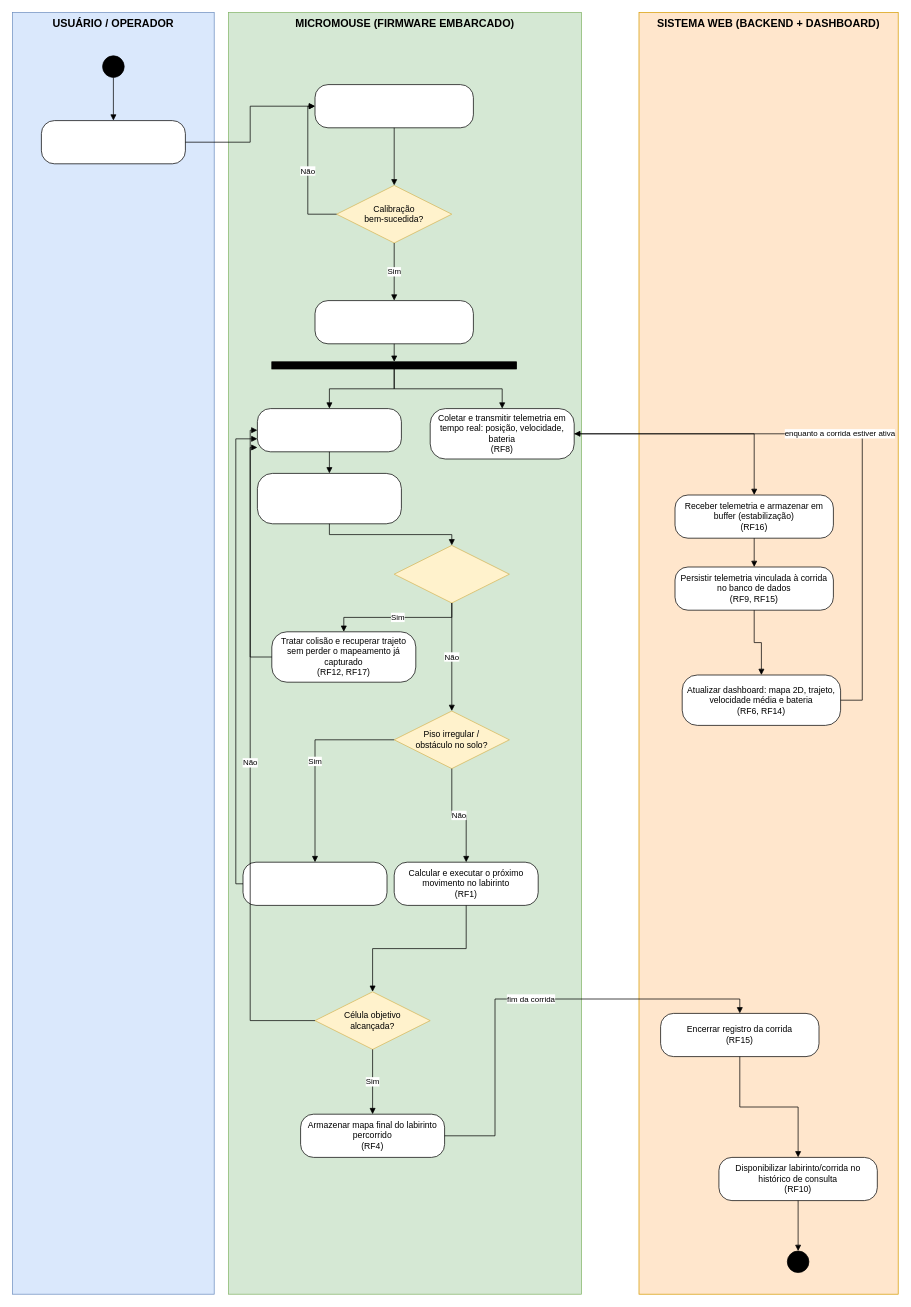
Image size: 911x1307. Some labels were removed from this diagram. The shapes that lost their labels are listed below. From the top down, each one's centre as x and y in pixels, then its label:
(393,106): Executar autocalibração de sensores de distância e IMU (RF13 / RNF8)
(113,142): Posicionar o micromouse no labirinto e iniciar o desafio
(393,322): Sinalizar sistema pronto para o desafio (RNF9)
(329,430): Reconhecer ambiente: detectar paredes ao redor (RF2)
(329,498): Atualizar localização (odometria) e mapa do labirinto (RF3, RF5)
(451,574): Colisão com parede detectada?
(314,883): Sobrepujar condição irregular do solo (RF11)
